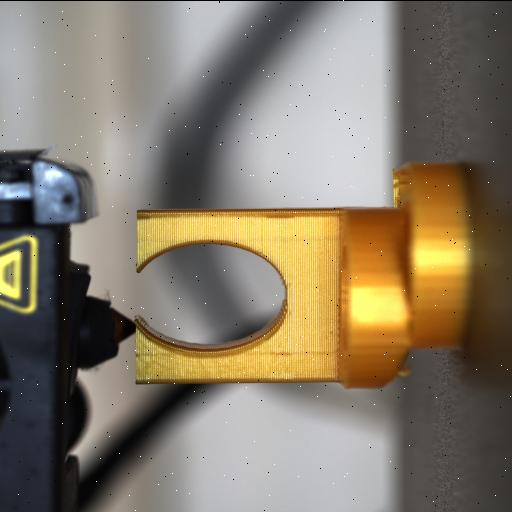layer_shift: (388, 158, 424, 380)
